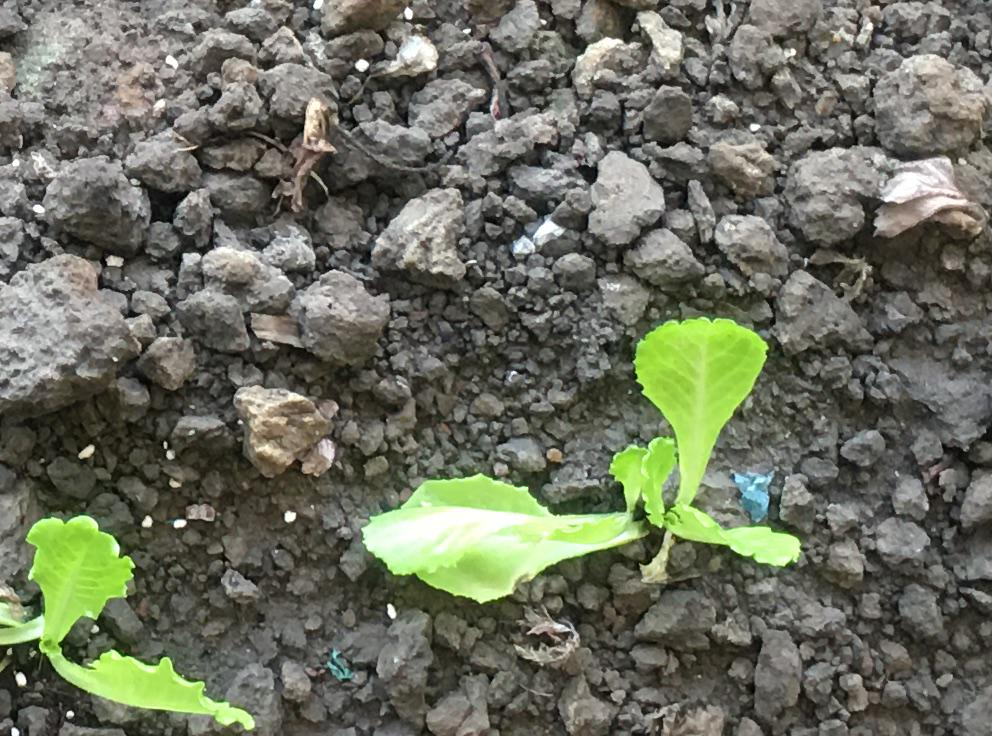block: (1, 257, 142, 419), (873, 54, 992, 156), (47, 156, 152, 252), (291, 268, 378, 375), (229, 384, 324, 479), (372, 188, 461, 284), (589, 148, 667, 247)
